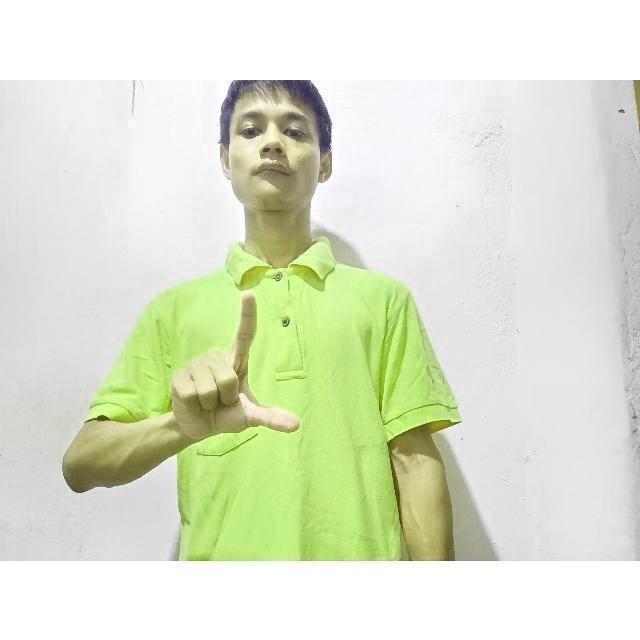L: (172, 286, 312, 452)
